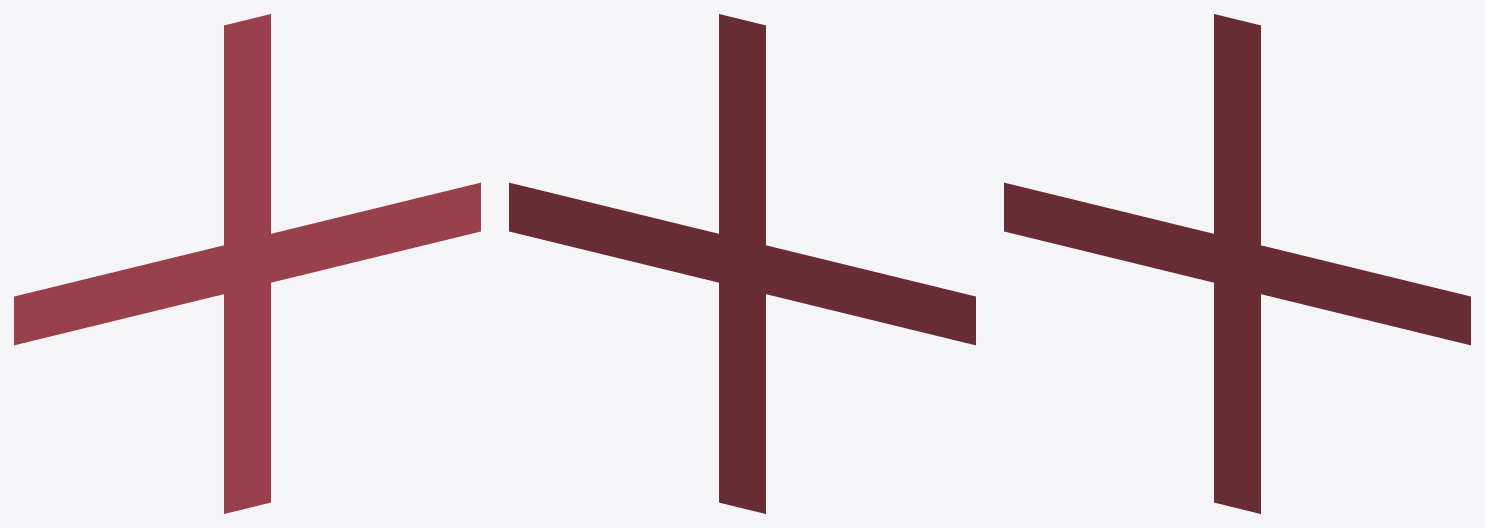
File: reticle.glb
The picture shows the model from 3 angles, left to right: view 1: azimuth 30°, elevation 25°; view 2: azimuth 150°, elevation 25°; view 3: azimuth 330°, elevation 25°; orthographic projection.
Visible parts, largest first — view 1: Mesh_Mesh_head_geo.001_lambert2SG.001; view 2: Mesh_Mesh_head_geo.001_lambert2SG.001; view 3: Mesh_Mesh_head_geo.001_lambert2SG.001.
Boxes of the visible parts, left/top/right/bottom form: Mesh_Mesh_head_geo.001_lambert2SG.001: left=14, top=14, right=480, bottom=513; Mesh_Mesh_head_geo.001_lambert2SG.001: left=509, top=14, right=975, bottom=513; Mesh_Mesh_head_geo.001_lambert2SG.001: left=1004, top=14, right=1470, bottom=513.
Bounding box in the file's own units: 200 × 200 × 0.01.
